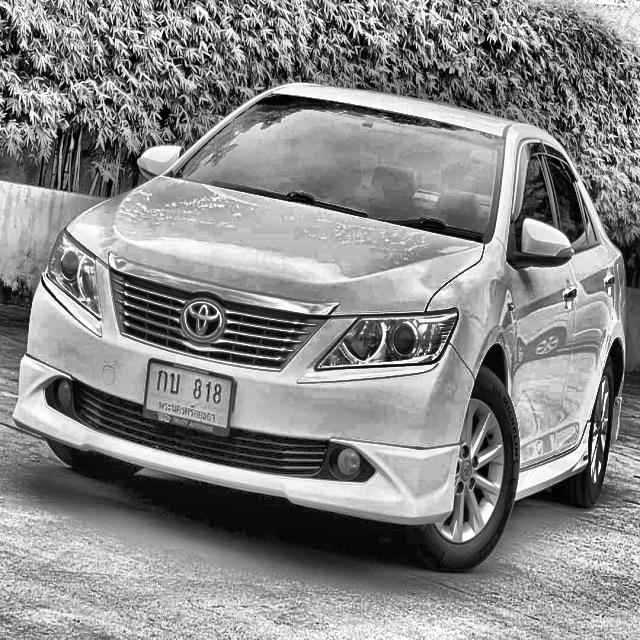license-plate: (140, 354, 240, 442)
